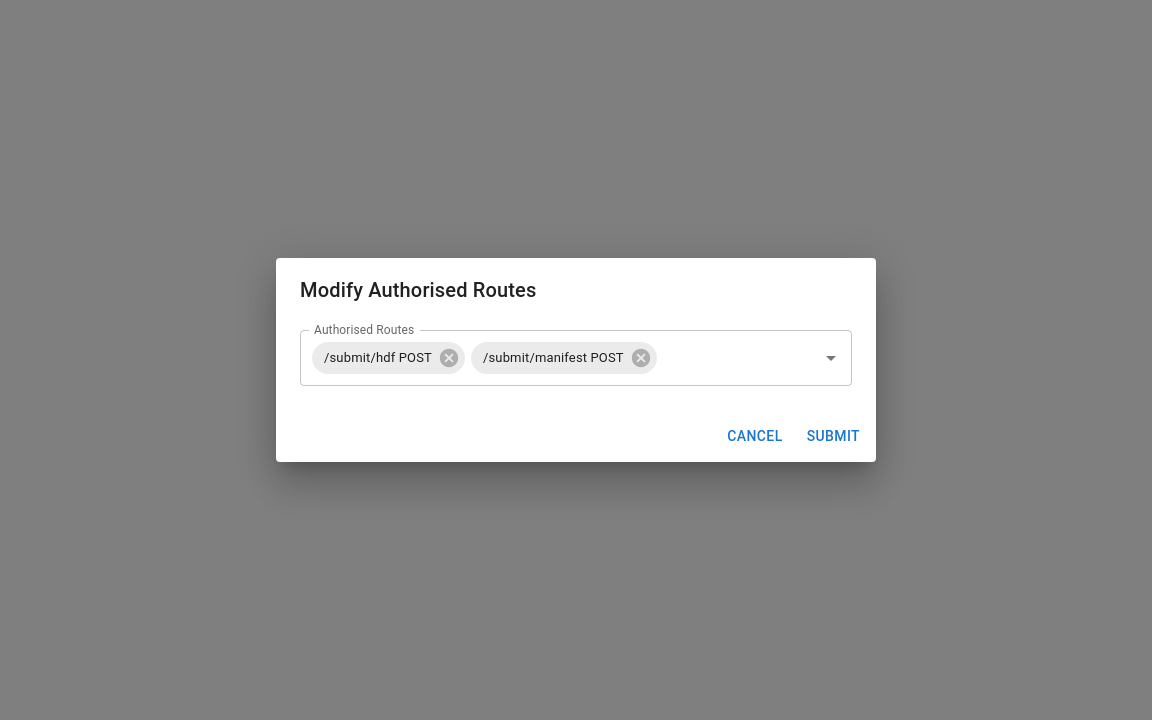
Scenario: userDialogue › modify authorised routes › displays error when no routes are changed
What coordinates should you click on to do the following:
click the button "Submit"
I would click on:
 (833, 436)
Its box is [799,418,868,454].
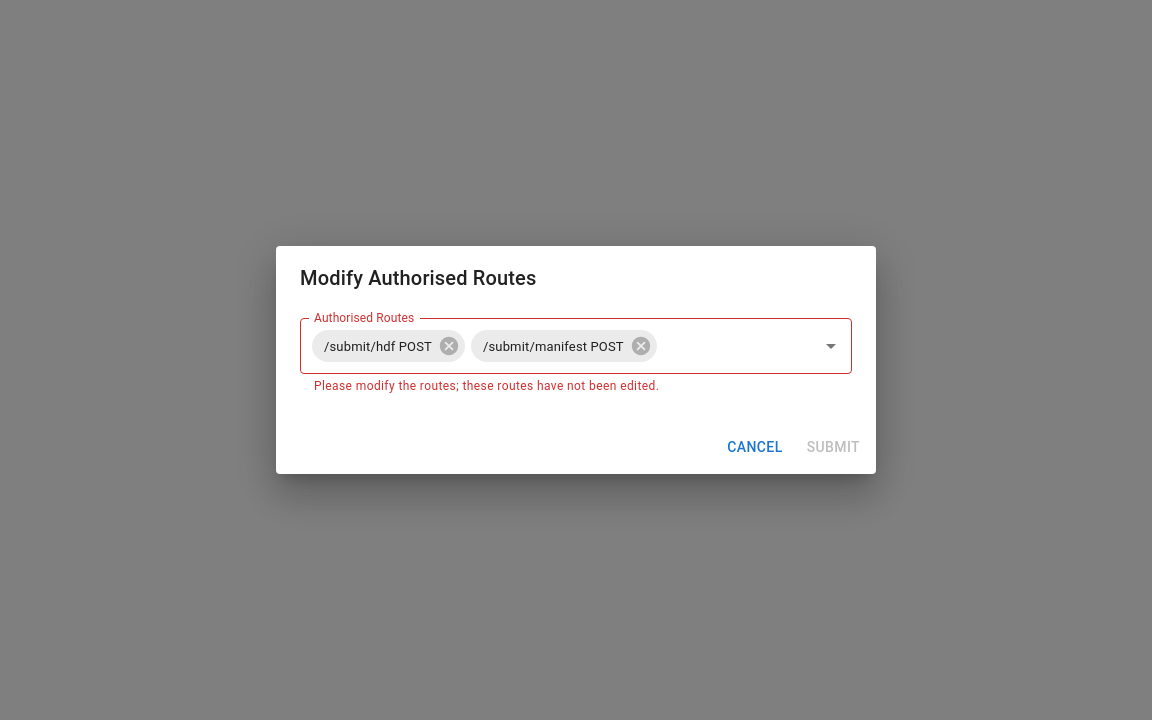
Check: the text "Please modify the routes; these routes have not been edited." is shown, box [314,379,659,393]
